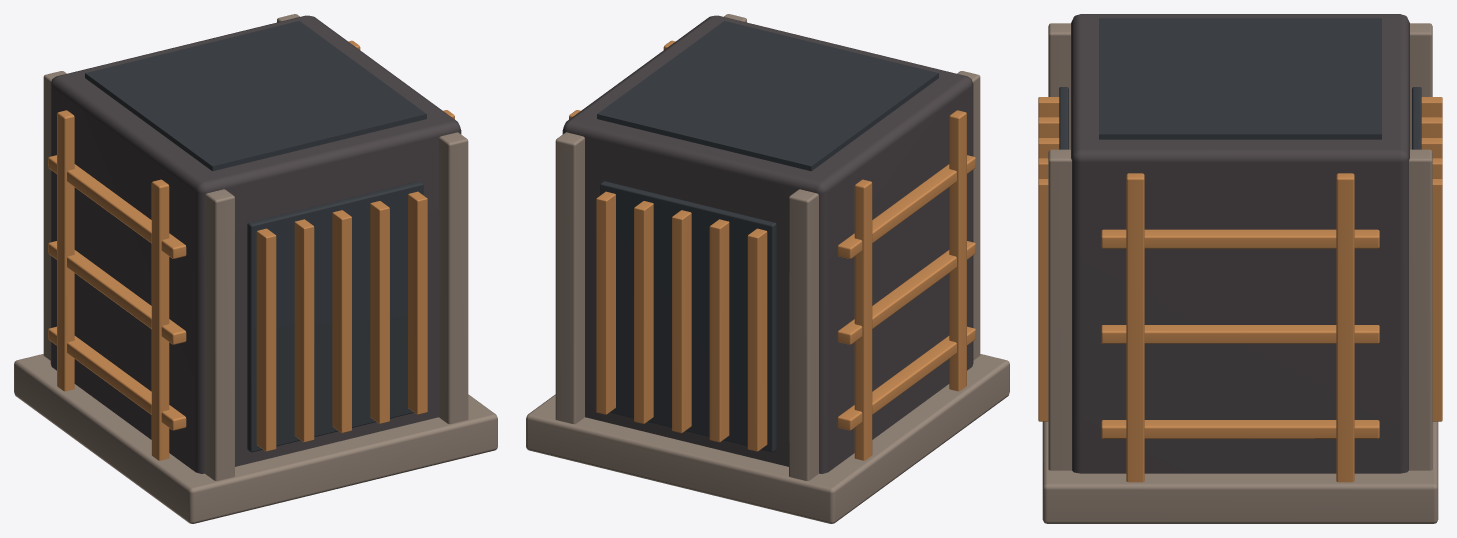
The model's file is uplink-base-1.glb.
3 views of the same model, side by side, from view 1: azimuth 30°, elevation 25°; view 2: azimuth 150°, elevation 25°; view 3: azimuth 270°, elevation 25° (orthographic). The views are drawn at different scales.
Parts seen in each view (by area): view 1: uplink_0, uplink_2, uplink_1, uplink_3; view 2: uplink_0, uplink_2, uplink_1, uplink_3; view 3: uplink_0, uplink_1, uplink_2, uplink_3.
Part boxes in pixels (x1,y1,x2,y2): uplink_0: [50, 15, 461, 473]; uplink_2: [85, 21, 426, 452]; uplink_1: [14, 14, 497, 523]; uplink_3: [48, 40, 454, 460]; uplink_0: [562, 15, 973, 473]; uplink_2: [597, 21, 938, 452]; uplink_1: [526, 14, 1009, 523]; uplink_3: [569, 40, 975, 460]; uplink_0: [1071, 14, 1409, 473]; uplink_1: [1042, 23, 1438, 523]; uplink_2: [1059, 18, 1421, 149]; uplink_3: [1038, 97, 1442, 482].
Bounding box in the file's own units: 0.98 × 1 × 1.
